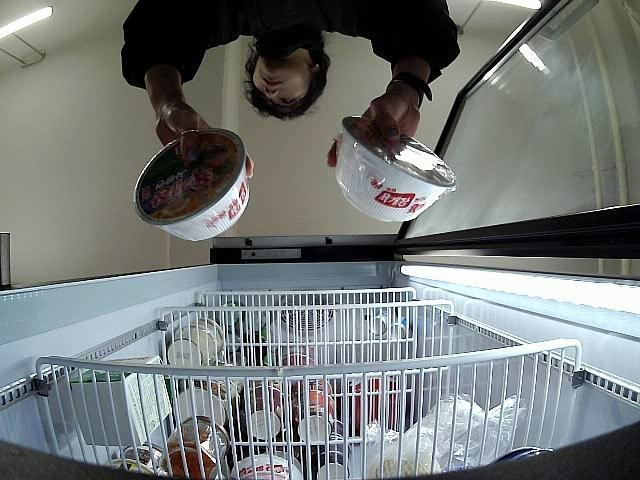09_yukGaeJang: (134, 127, 248, 242), (334, 117, 456, 222)
